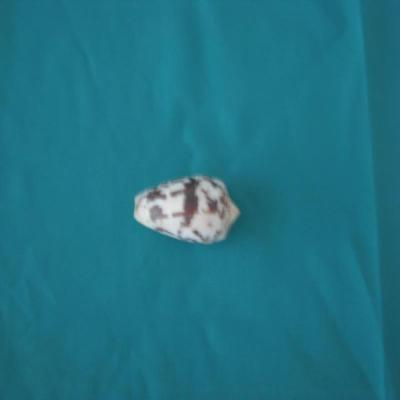natural_science_collection: (134, 176, 240, 246)
